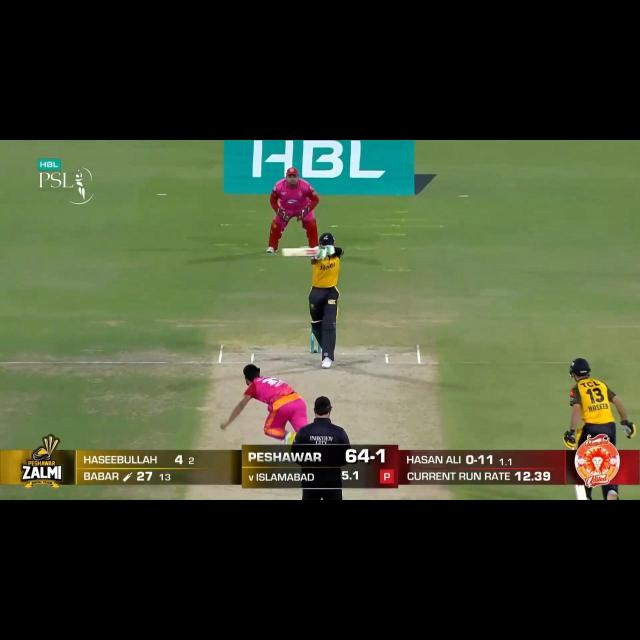bat: (279, 246, 322, 258)
toe: (574, 485, 588, 500), (276, 246, 291, 259)
